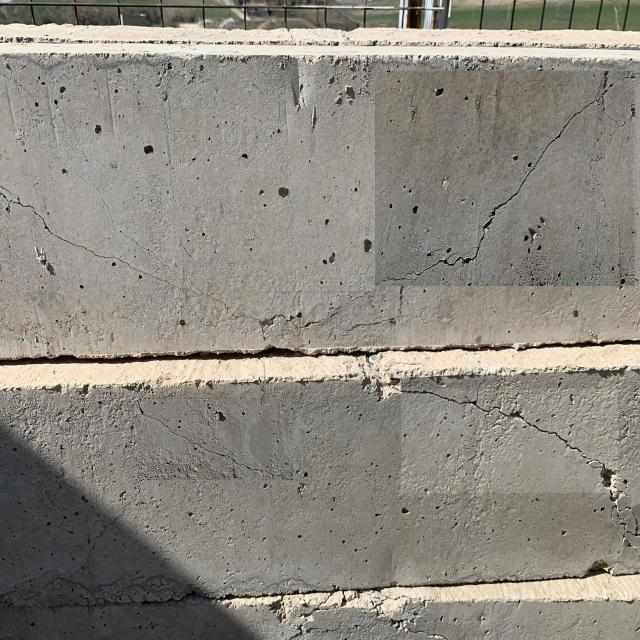diagonal crack: (376, 71, 633, 286), (402, 389, 618, 493), (1, 185, 185, 294), (138, 399, 292, 480)
horizontal crack: (260, 294, 369, 330)
vertical crack: (260, 358, 266, 406)
